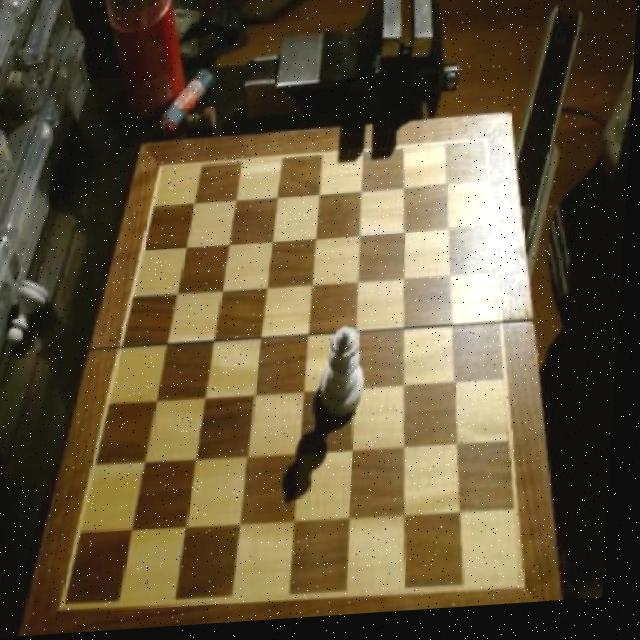white-pawn: (321, 324, 375, 426)
